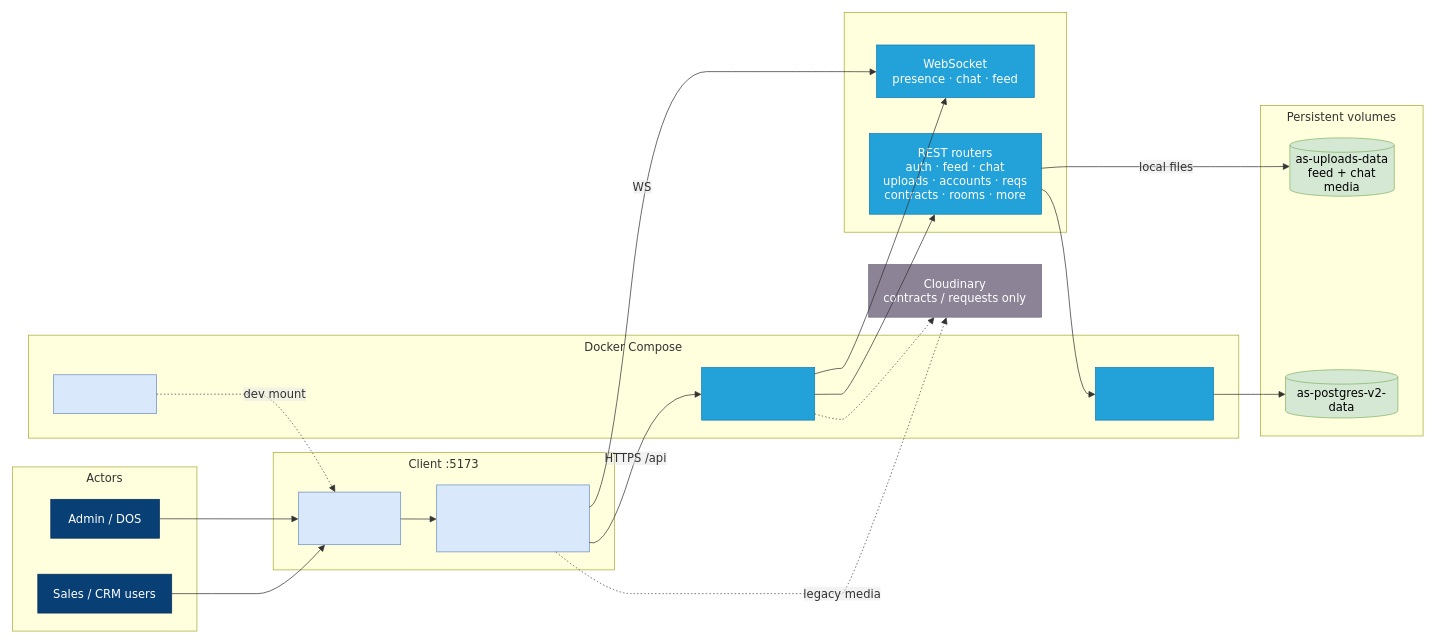
The diagram is 1436 pixels wide and 644 high, and some of its shapes have lost their labels. Each missing label, with the box of its shape:
API + realtime: (843, 12, 1067, 232)
as-backend FastAPI :8000: (701, 367, 815, 420)
as-frontend: (53, 374, 157, 414)
as-postgres-V2 PostgreSQL 18: (1095, 367, 1214, 420)
Hub · CRM · Requests Feed · Messenger Contracts · Settings: (436, 484, 589, 552)
React SPA AS.tsx shell: (298, 491, 401, 545)
